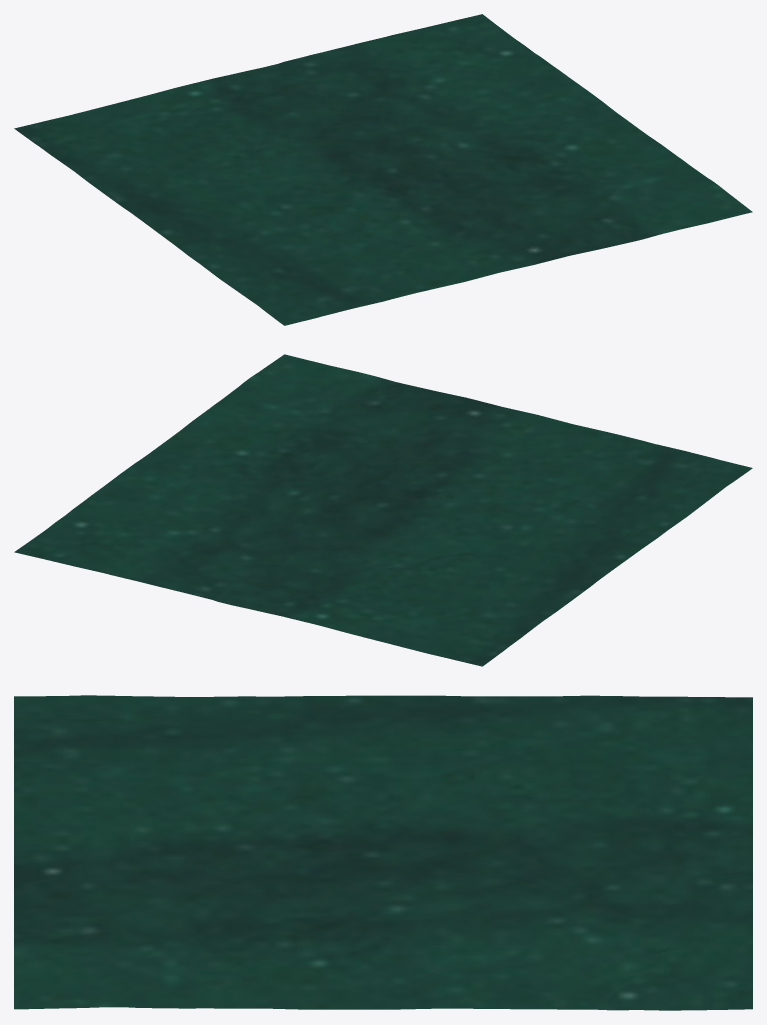
3 views of the same model, one above another, from view 1: azimuth 30°, elevation 25°; view 2: azimuth 150°, elevation 25°; view 3: azimuth 270°, elevation 25° (orthographic). The views are drawn at different scales.
Bounding box in the file's own units: 52.22 × 0.4156 × 52.22.
Materials: 3 (3 with a texture image).
